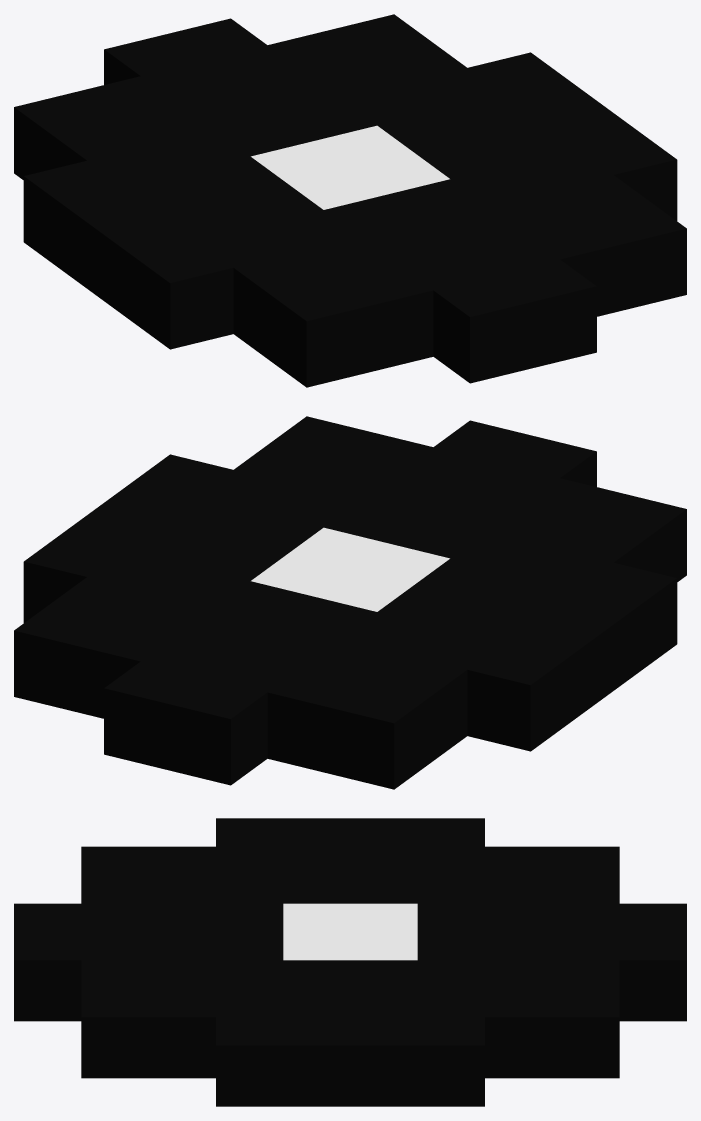
The model's file is RecordPlayer2.obj.
3 views of the same model, one above another, from view 1: azimuth 30°, elevation 25°; view 2: azimuth 150°, elevation 25°; view 3: azimuth 270°, elevation 25° (orthographic). The views are drawn at different scales.
Parts seen in each view (by area): view 1: RecordPlayer2; view 2: RecordPlayer2; view 3: RecordPlayer2.
Part boxes in pixels (x1,y1,x2,y2): RecordPlayer2: (14,14,686,387); RecordPlayer2: (14,416,686,789); RecordPlayer2: (14,818,686,1106).
Size of the model in its own units: 8 by 1 by 10.
1 material, 1 textured.
